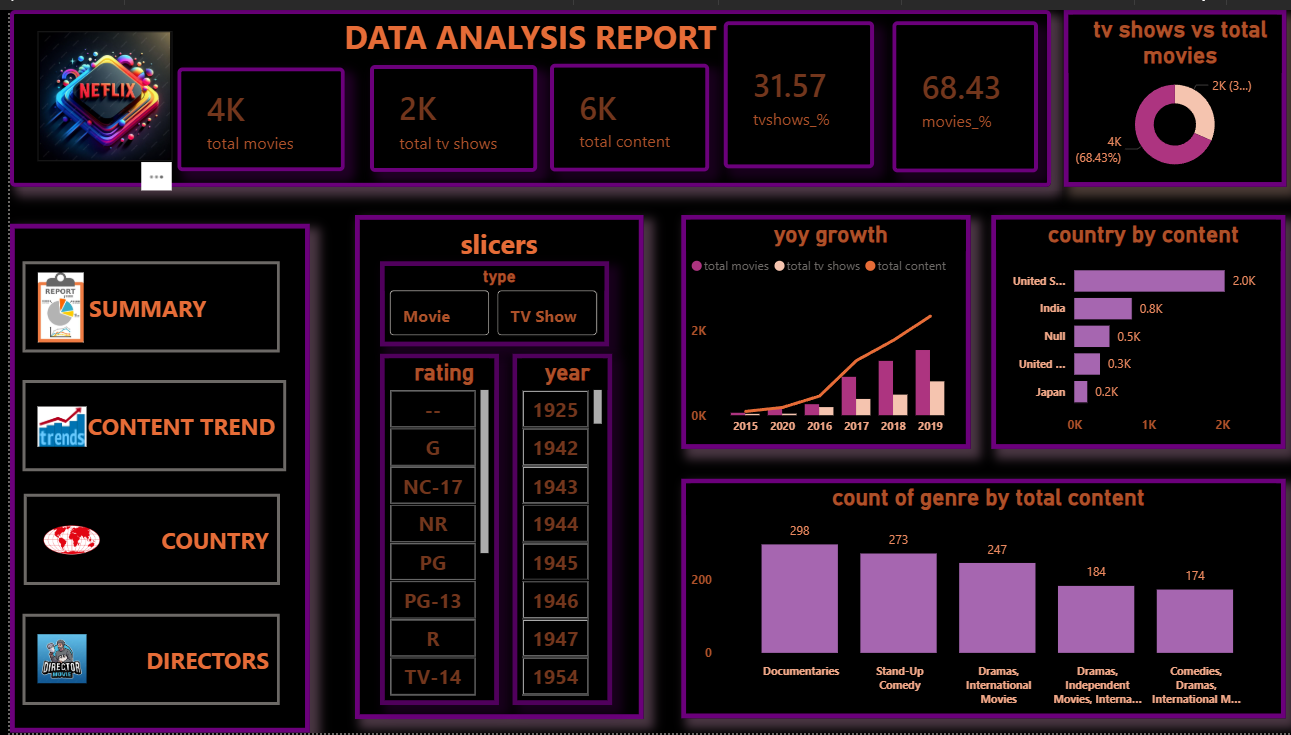

The page's visual inventory and layout, read from the dashboard file:
{"tool":"powerbi","page":{"name":"summary report ","canvas":[1280,720],"ordinal":0},"visuals":[{"type":"textbox","box":[0,0,1035.7,175.9],"z":0},{"type":"image","box":[26.9,21.5,134.5,129.1],"z":1000},{"type":"textbox","box":[0,212.7,298.6,506.3],"z":2000},{"type":"actionButton","box":[12.4,250,256.3,90.8],"z":3000},{"type":"image","box":[26.1,261.2,48.5,69.7],"z":4000},{"type":"actionButton","box":[12.4,368.2,262.5,90.8],"z":5000},{"type":"image","box":[27.4,379.4,48.5,69.7],"z":6000},{"type":"actionButton","box":[13.7,481.4,255,90.8],"z":7000},{"type":"image","box":[28.6,492.6,65.9,69.7],"z":8000},{"type":"actionButton","box":[12.4,600.8,256.3,90.8],"z":9000},{"type":"image","box":[26.9,610.6,48.4,69.9],"z":10000},{"type":"cardVisual","fields":{"Data":["Table1.total content"]},"box":[537.9,53.8,158.7,107.6],"z":11000},{"type":"cardVisual","fields":{"Data":["Table1.total tv shows"]},"box":[357.7,55.1,166.8,106.2],"z":12000},{"type":"cardVisual","fields":{"Data":["Table1.total movies"]},"box":[166.8,57.8,166.8,103.6],"z":13000},{"type":"textbox","box":[343.3,204,287.4,501.3],"z":14000},{"type":"advancedSlicerVisual","title":"type","fields":{"Values":["Table1.type"]},"box":[368.2,250,227.6,84.6],"z":15000},{"type":"listSlicer","fields":{"Values":["Table1.rating"]},"box":[368.2,342.1,118.2,349.6],"z":16000},{"type":"listSlicer","fields":{"Values":["Table1.release_year"]},"box":[500.1,342.1,99.5,349.6],"z":17000},{"type":"donutChart","title":" tv shows vs total movies","fields":{"Y":["Table1.total tv shows","Table1.total movies"]},"box":[1048.3,0,221.9,175.9],"z":18000},{"type":"columnChart","title":"count of genre by total content","fields":{"Category":["Table1.listed_in"],"Y":["Table1.total content"]},"box":[668.6,466.2,601.6,238.7],"z":19000},{"type":"barChart","title":"country by content","fields":{"Category":["Table1.country"],"Y":["CountNonNull(Table1.type)"]},"box":[976.3,204.4,293.2,232.7],"z":20000},{"type":"lineClusteredColumnComboChart","title":"yoy growth","fields":{"Category":["Table1.year"],"Y":["Table1.total movies","Table1.total tv shows"],"Y2":["Table1.total content"]},"box":[668.4,204.4,287.8,232.7],"z":20001},{"type":"cardVisual","fields":{"Data":["Table1.tvshows_%"]},"box":[710.5,11.2,149.4,146.6],"z":20002},{"type":"cardVisual","fields":{"Data":["Table1.movies_%"]},"box":[878,11.2,145.2,150.8],"z":20003}]}

Visuals, with their boxes in screenshot pixels (x1, y1, x2, y2), scaled from the page's 1280x720 canvas onto the 1291x735 screenshot:
textbox: [x1=0, y1=0, x2=1045, y2=180]
image: [x1=27, y1=22, x2=163, y2=154]
textbox: [x1=0, y1=217, x2=301, y2=734]
actionButton: [x1=13, y1=255, x2=271, y2=348]
image: [x1=26, y1=267, x2=75, y2=338]
actionButton: [x1=13, y1=376, x2=277, y2=469]
image: [x1=28, y1=387, x2=77, y2=458]
actionButton: [x1=14, y1=491, x2=271, y2=584]
image: [x1=29, y1=503, x2=95, y2=574]
actionButton: [x1=13, y1=613, x2=271, y2=706]
image: [x1=27, y1=623, x2=76, y2=695]
cardVisual - Table1.total content: [x1=543, y1=55, x2=703, y2=165]
cardVisual - Table1.total tv shows: [x1=361, y1=56, x2=529, y2=165]
cardVisual - Table1.total movies: [x1=168, y1=59, x2=336, y2=165]
textbox: [x1=346, y1=208, x2=636, y2=720]
"type" advancedSlicerVisual: [x1=371, y1=255, x2=601, y2=342]
listSlicer - Table1.rating: [x1=371, y1=349, x2=491, y2=706]
listSlicer - Table1.release_year: [x1=504, y1=349, x2=605, y2=706]
" tv shows vs total movies" donutChart: [x1=1057, y1=0, x2=1281, y2=180]
"count of genre by total content" columnChart: [x1=674, y1=476, x2=1281, y2=720]
"country by content" barChart: [x1=985, y1=209, x2=1280, y2=446]
"yoy growth" lineClusteredColumnComboChart: [x1=674, y1=209, x2=964, y2=446]
cardVisual - Table1.tvshows_%: [x1=717, y1=11, x2=867, y2=161]
cardVisual - Table1.movies_%: [x1=886, y1=11, x2=1032, y2=165]
